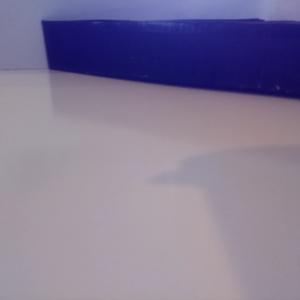zone: (41, 17, 300, 99)
